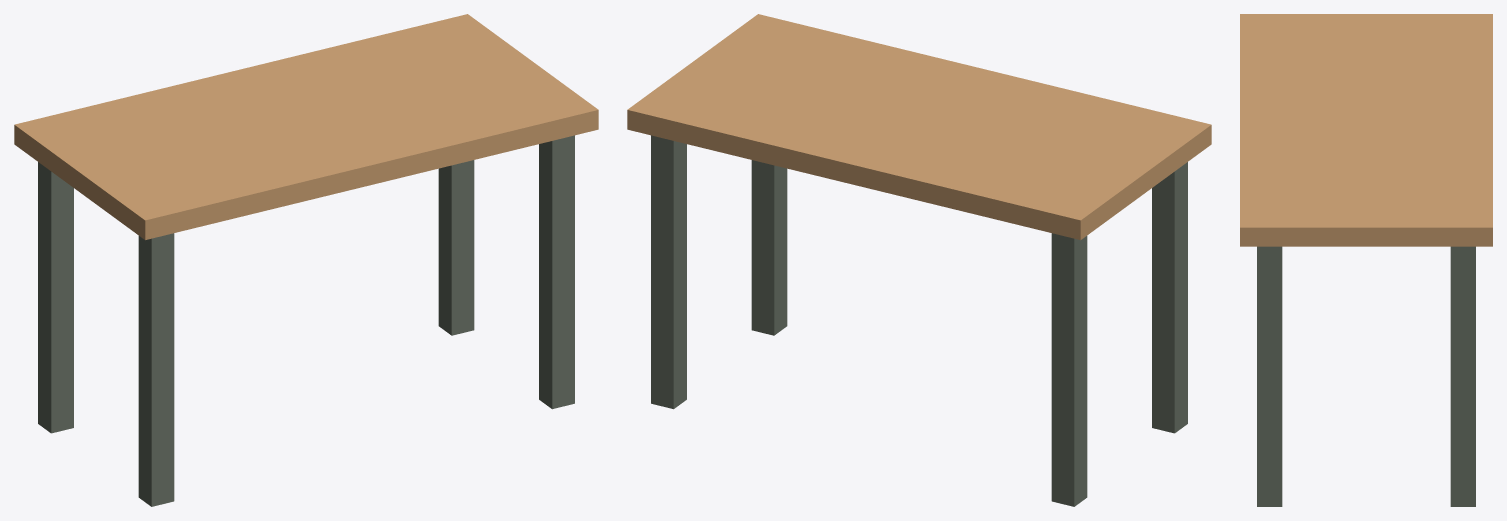
Rendered from sample-desk.glb.
3 renders of one model, left to right at view 1: azimuth 30°, elevation 25°; view 2: azimuth 150°, elevation 25°; view 3: azimuth 270°, elevation 25°, orthographic. The views are drawn at different scales.
Parts seen in each view (by area): view 1: Tabletop, Leg (×4); view 2: Tabletop, Leg (×4); view 3: Tabletop, Leg (×2).
Part boxes in pixels (x1,y1,x2,y2): Tabletop: (14, 14, 598, 240); Leg (×4): (38, 135, 574, 506); Tabletop: (627, 14, 1211, 240); Leg (×4): (651, 135, 1187, 506); Tabletop: (1240, 14, 1492, 246); Leg (×2): (1257, 246, 1475, 506).
Size of the model in its own units: 1.2 by 0.75 by 0.6.
